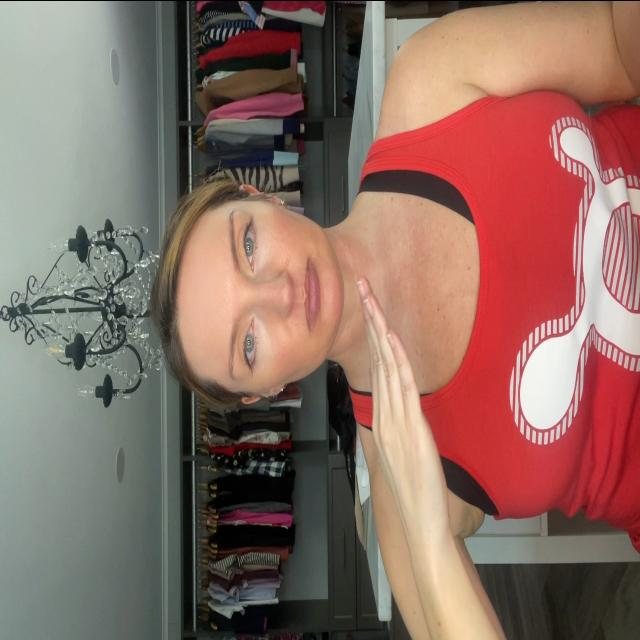Paper: (352, 270, 449, 550)
